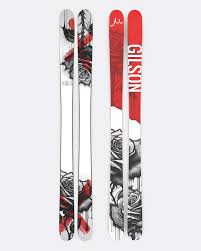skis: (57, 9, 96, 243), (107, 9, 144, 244)
